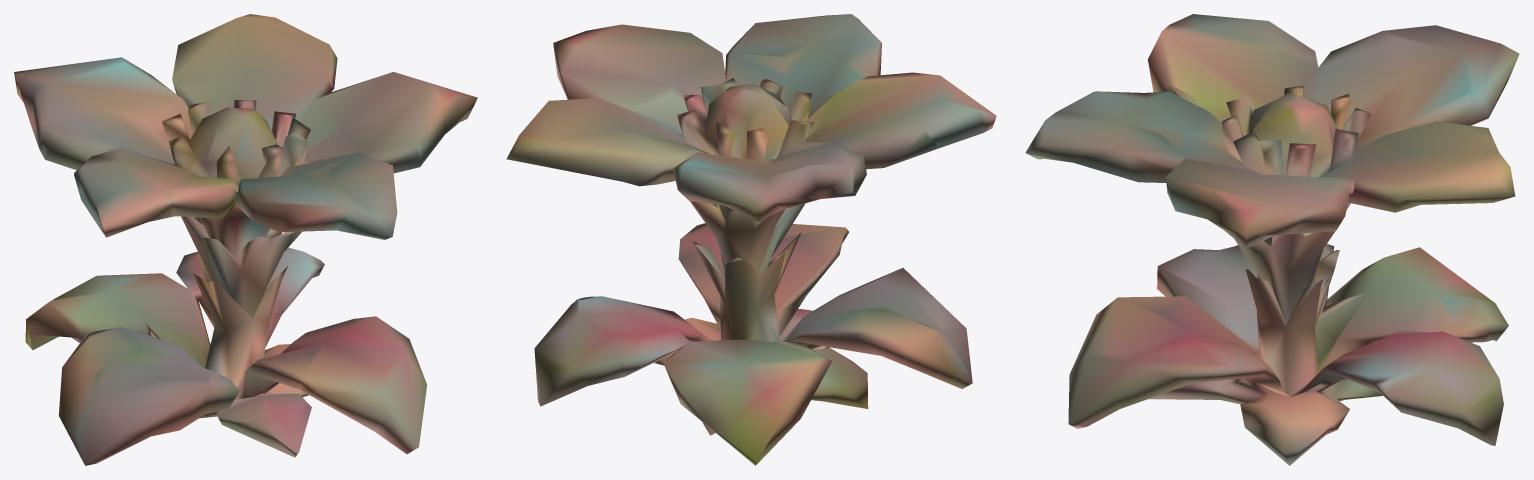
The model's file is Flower_game.glb.
3 views of the same model, side by side, from view 1: azimuth 30°, elevation 25°; view 2: azimuth 150°, elevation 25°; view 3: azimuth 270°, elevation 25° (orthographic). The views are drawn at different scales.
Parts seen in each view (by area): view 1: Flower; view 2: Flower; view 3: Flower.
Boxes of the visible parts, x1,y1,x2,y2 form: Flower: (14, 14, 477, 465); Flower: (506, 14, 996, 465); Flower: (1025, 14, 1519, 465).
Size of the model in its own units: 0.9187 by 0.6472 by 0.9147.
